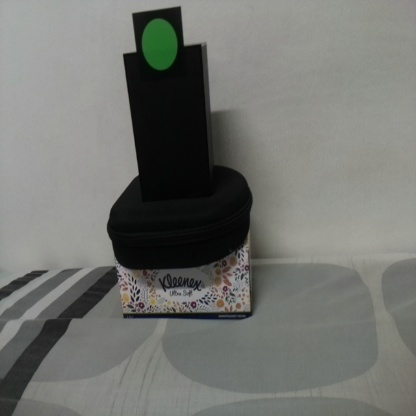id_5: (132, 13, 185, 82)
